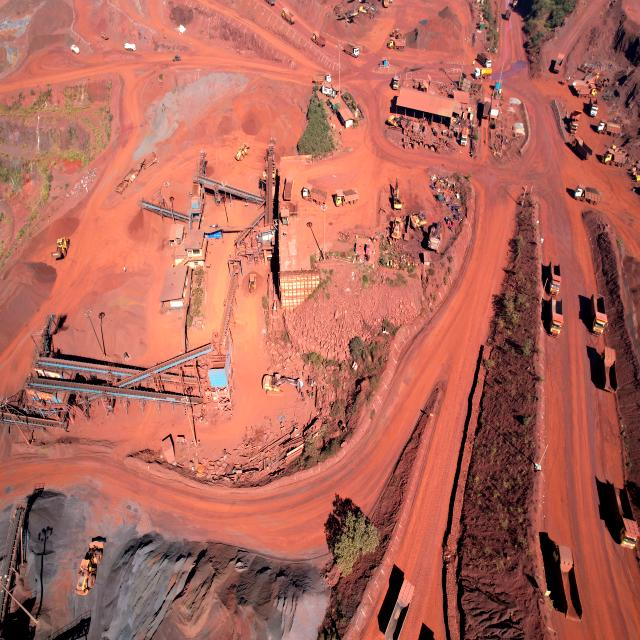Dumper truck: (591, 295, 606, 337), (543, 264, 560, 299), (548, 299, 564, 336), (603, 347, 617, 389), (335, 189, 360, 207), (546, 264, 560, 294), (300, 188, 326, 204), (604, 149, 626, 166), (598, 120, 621, 136), (547, 312, 562, 335), (576, 188, 600, 202), (284, 173, 295, 200), (313, 72, 332, 84), (554, 51, 564, 73), (576, 85, 594, 97), (574, 80, 595, 90), (572, 137, 584, 154), (282, 8, 295, 23), (459, 128, 469, 146), (389, 38, 405, 49), (620, 537, 637, 547), (475, 56, 492, 66), (345, 46, 361, 56), (311, 34, 325, 43), (590, 69, 600, 81), (588, 105, 598, 116), (472, 68, 481, 80), (391, 77, 399, 89), (504, 9, 510, 20)
Excavator: (540, 533, 568, 612), (263, 374, 301, 395), (427, 219, 448, 251), (88, 540, 106, 561), (405, 217, 422, 239), (408, 214, 426, 230), (359, 2, 377, 18), (391, 181, 400, 209), (395, 114, 411, 128), (386, 115, 402, 128), (392, 197, 402, 210), (249, 276, 256, 291)
car: (173, 56, 180, 60)
person: (122, 266, 128, 272)
